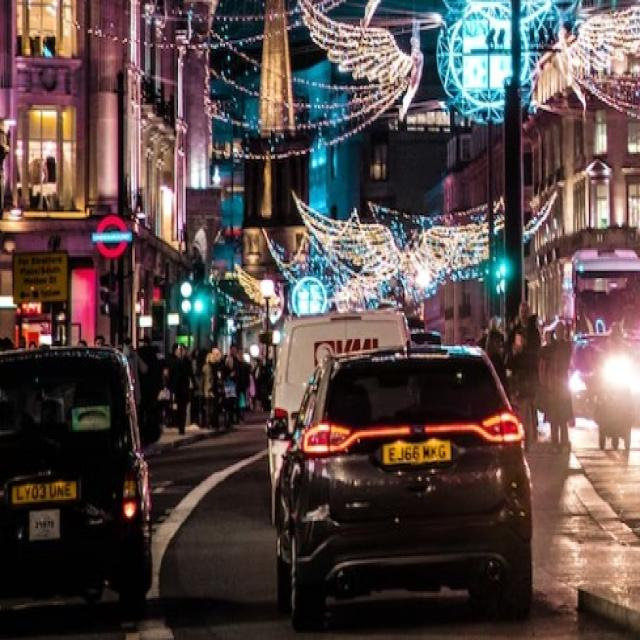bus: (560, 241, 640, 423)
car: (269, 331, 537, 623), (0, 338, 160, 612)
